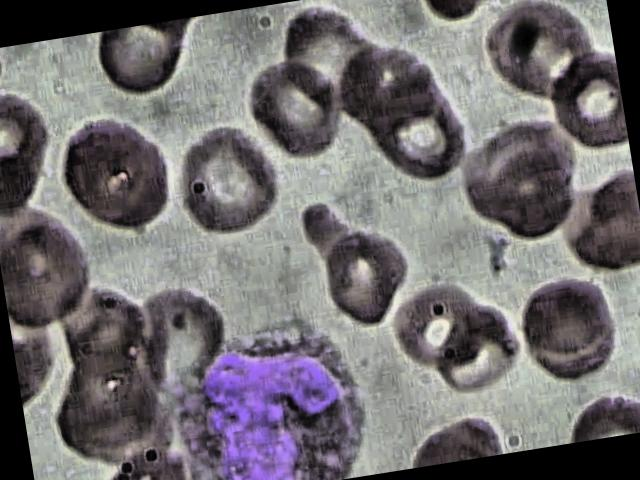RBC: (284, 182, 420, 336), (54, 108, 182, 243), (164, 112, 286, 248), (472, 0, 607, 115), (509, 267, 633, 387), (240, 49, 352, 164), (466, 133, 578, 248), (364, 72, 476, 187), (0, 206, 99, 328), (426, 293, 526, 400), (93, 19, 197, 104)
WBC: (156, 309, 377, 480)
